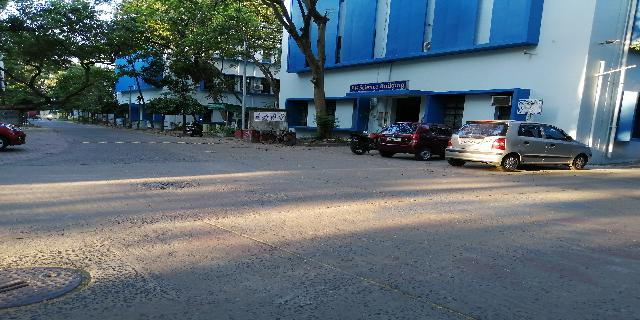Car: (445, 115, 594, 173), (374, 121, 446, 163)
